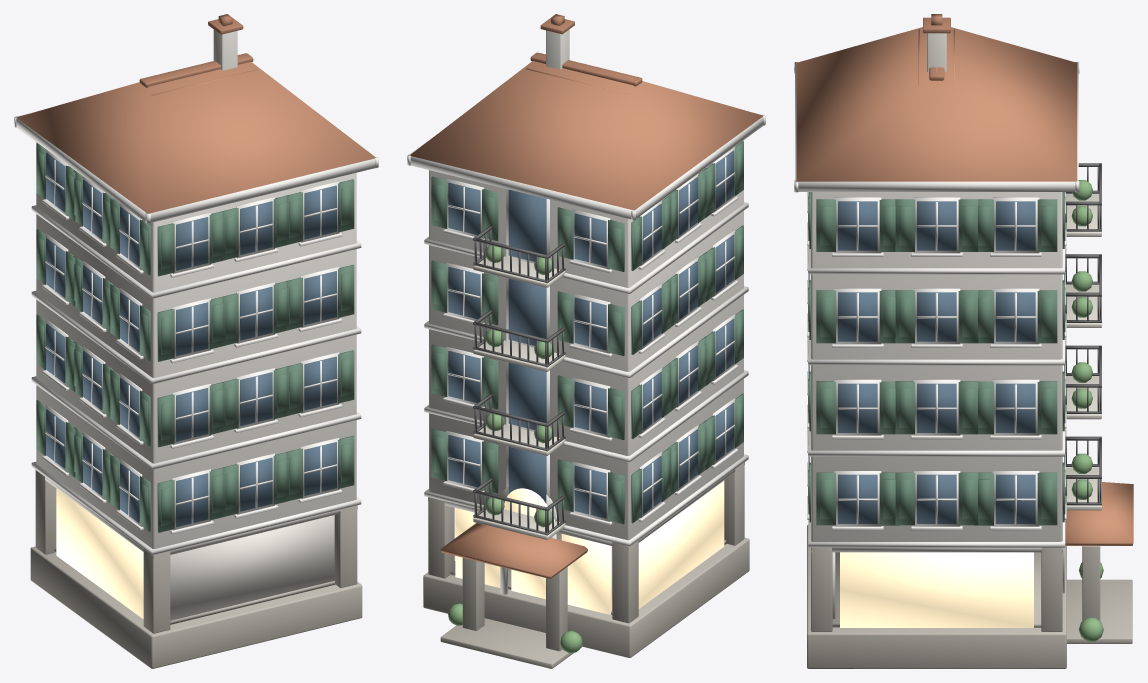
File: menara-6-blender-v1.glb
3 views of the same model, side by side, from view 1: azimuth 30°, elevation 25°; view 2: azimuth 150°, elevation 25°; view 3: azimuth 270°, elevation 25° (orthographic). The views are drawn at different scales.
Parts seen in each view (by area): view 1: tower_body_m, roof_terracotta, shutters, trim_white, windows_glass, stonework, lobby_glass; view 2: roof_terracotta, tower_body_m, shutters, stonework, trim_white, windows_glass, lobby_glass, balcony_door_glass, balcony_railings, balcony_slabs, balcony_bushes, balcony_door_frames (+1 smaller); view 3: roof_terracotta, tower_body_m, shutters, trim_white, windows_glass, stonework, lobby_glass, balcony_railings, balcony_slabs, balcony_bushes, porch_bushes.
Boxes of the visible parts, x1,y1,x2,y2 form: tower_body_m: [35, 30, 357, 620]; roof_terracotta: [16, 14, 375, 213]; shutters: [36, 143, 354, 532]; trim_white: [14, 114, 378, 555]; windows_glass: [46, 152, 336, 527]; stonework: [30, 470, 362, 668]; lobby_glass: [56, 488, 143, 619]; roof_terracotta: [410, 14, 763, 578]; tower_body_m: [428, 29, 744, 549]; shutters: [431, 141, 743, 524]; stonework: [423, 462, 749, 668]; trim_white: [407, 113, 765, 594]; windows_glass: [448, 150, 734, 518]; lobby_glass: [454, 480, 724, 614]; balcony_door_glass: [508, 189, 546, 503]; balcony_railings: [473, 226, 565, 535]; balcony_slabs: [473, 256, 565, 539]; balcony_bushes: [485, 245, 551, 527]; balcony_door_frames: [506, 189, 549, 497]; roof_terracotta: [796, 14, 1133, 545]; tower_body_m: [811, 33, 1062, 618]; shutters: [808, 192, 1065, 525]; trim_white: [794, 62, 1079, 593]; windows_glass: [808, 192, 1064, 523]; stonework: [807, 525, 1132, 668]; lobby_glass: [840, 552, 1033, 627]; balcony_railings: [1065, 163, 1101, 505]; balcony_slabs: [1065, 193, 1101, 510]; balcony_bushes: [1071, 180, 1092, 499]; porch_bushes: [1078, 562, 1103, 641].
Bounding box in the file's own units: 7.94 × 18.85 × 9.45.
